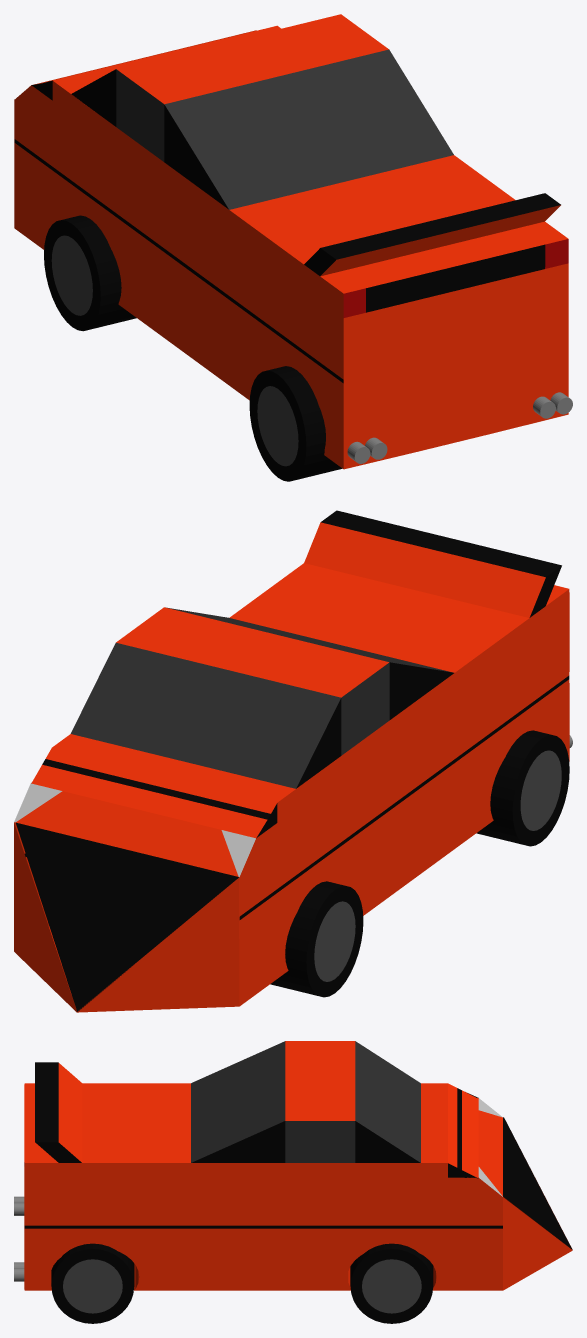
The model's file is car.obj.
3 views of the same model, one above another, from view 1: azimuth 30°, elevation 25°; view 2: azimuth 150°, elevation 25°; view 3: azimuth 270°, elevation 25° (orthographic). The views are drawn at different scales.
Visible parts, largest first — view 1: Cube, Cylinder.005_Cylinder.012, Cylinder.000_Cylinder.013; view 2: Cube, Cylinder.000_Cylinder.013, Cylinder.005_Cylinder.012; view 3: Cube, Cylinder.002_Cylinder.015, Cylinder.001_Cylinder.014.
Boxes of the visible parts, bbox=[...] form: Cube: bbox=[14, 14, 572, 469]; Cylinder.005_Cylinder.012: bbox=[44, 215, 136, 331]; Cylinder.000_Cylinder.013: bbox=[249, 366, 342, 481]; Cube: bbox=[14, 510, 572, 1012]; Cylinder.000_Cylinder.013: bbox=[476, 730, 569, 846]; Cylinder.005_Cylinder.012: bbox=[270, 881, 363, 997]; Cube: bbox=[14, 1041, 572, 1290]; Cylinder.002_Cylinder.015: bbox=[350, 1243, 433, 1323]; Cylinder.001_Cylinder.014: bbox=[51, 1243, 134, 1323].
Size of the model in its own units: 2.3 by 2.31 by 5.92.
